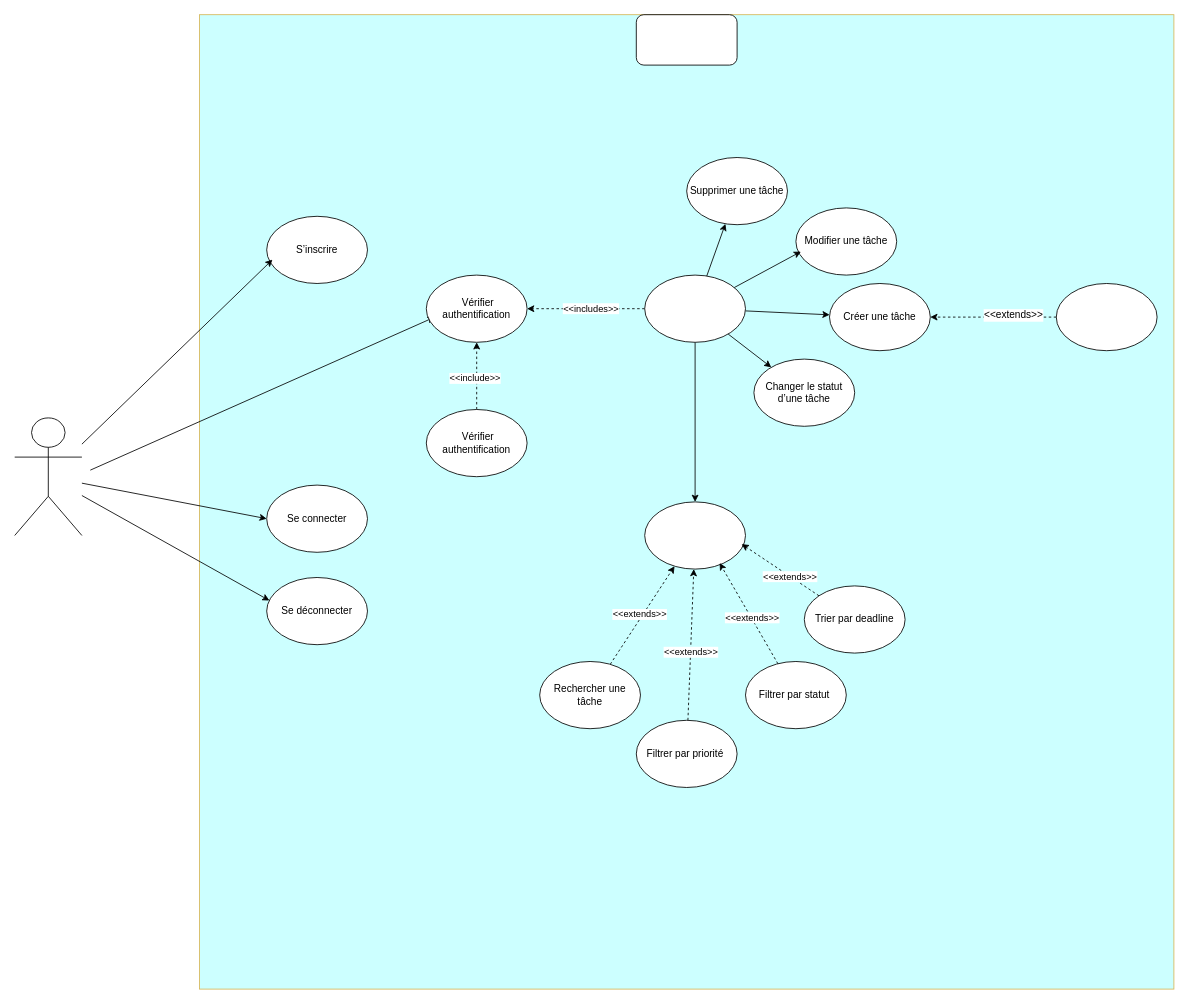
The diagram is 1189 pixels wide and 1004 high, and some of its shapes have lost their labels. Here are the shapes that lost their labels. From the top down, the centre of each, then its label:
At point 686,39: "TasksBoars".
At point 695,308: "Gerer les Taches".
At point 1106,317: "Ajouter plusieurs tâches".
At point 48,476: "User".
At point 695,535: "Lister mes tâches".
